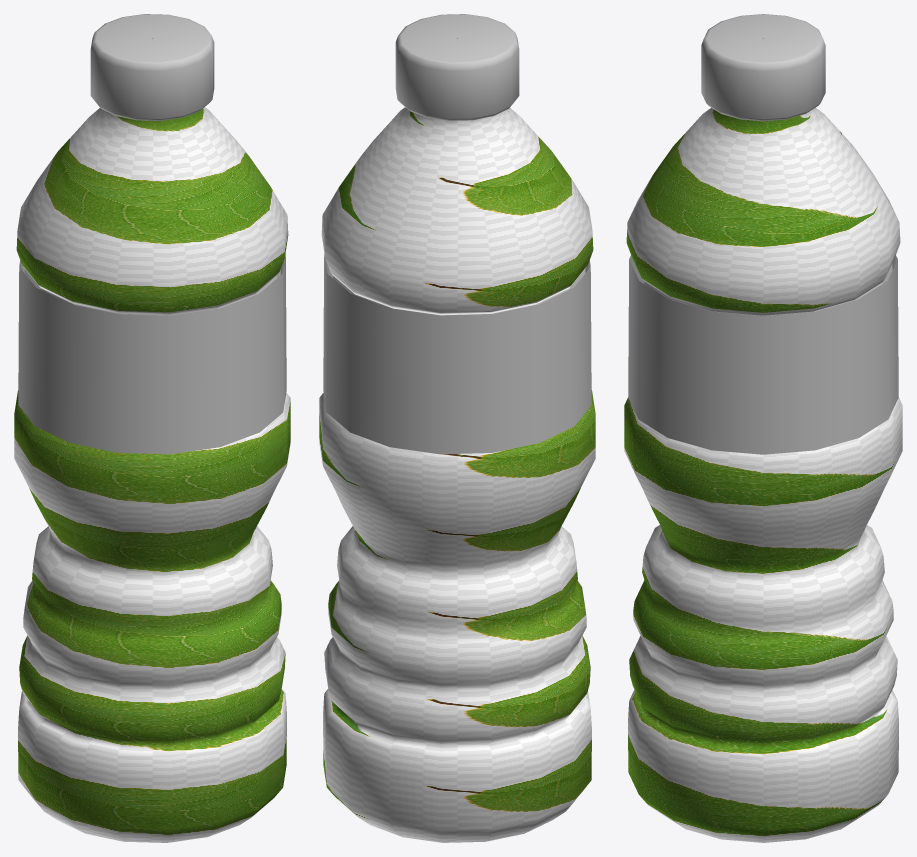
File: Agua.fbx
The picture shows the model from 3 angles, left to right: view 1: azimuth 30°, elevation 25°; view 2: azimuth 150°, elevation 25°; view 3: azimuth 270°, elevation 25°; orthographic projection.
Parts seen in each view (by area): view 1: Botella, Cosoxd, Tapa; view 2: Botella, Cosoxd, Tapa; view 3: Botella, Cosoxd, Tapa.
Part boxes in pixels (x1,y1,x2,y2): Botella: (14, 107, 290, 842); Cosoxd: (18, 254, 286, 454); Tapa: (90, 14, 214, 120); Botella: (319, 107, 595, 842); Cosoxd: (323, 254, 591, 454); Tapa: (395, 14, 519, 120); Botella: (624, 107, 902, 842); Cosoxd: (628, 255, 898, 454); Tapa: (701, 14, 825, 121).
Size of the model in its own units: 301 by 926 by 301.
